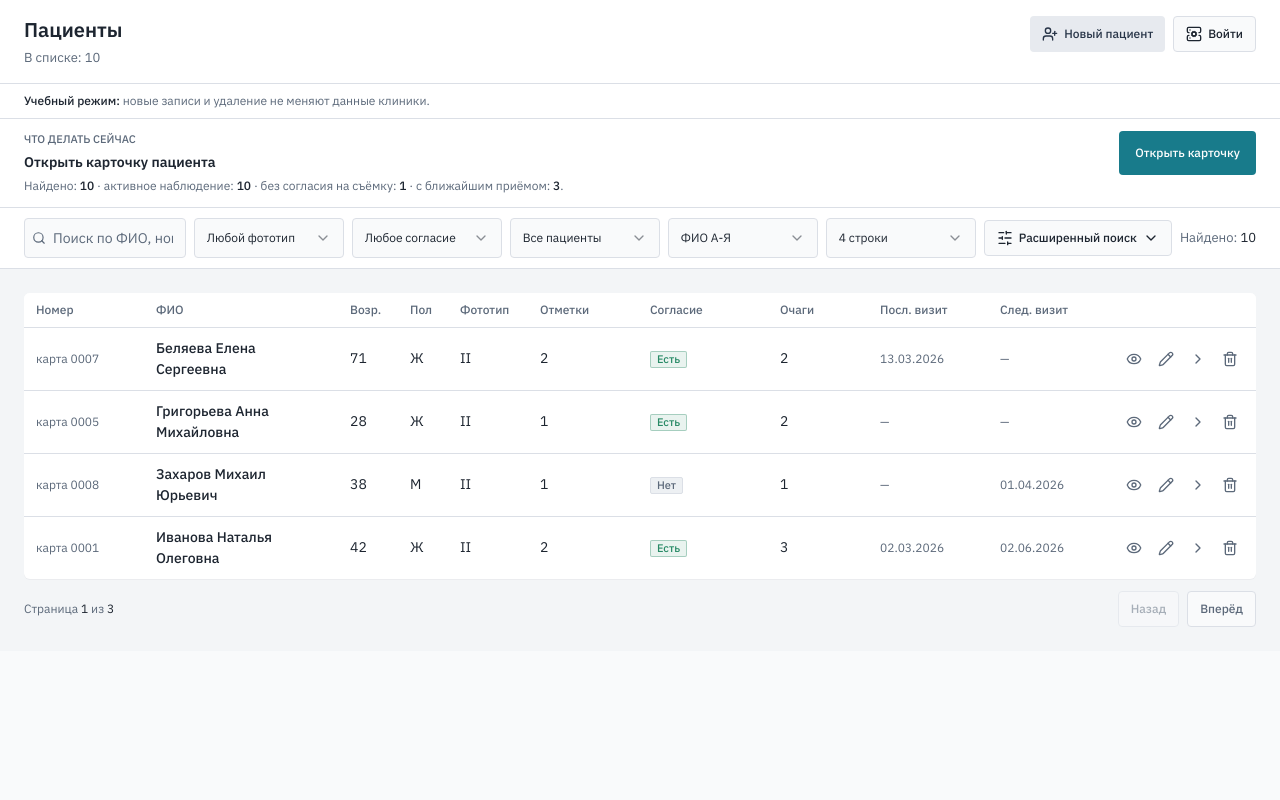
Test case: PatientsPage › records edit actions in the patient change log
Step 1. Click the button named "Редактировать пациента Иванова Наталья Олеговна" → click(1166, 548), box 1152,534 -> 1180,562
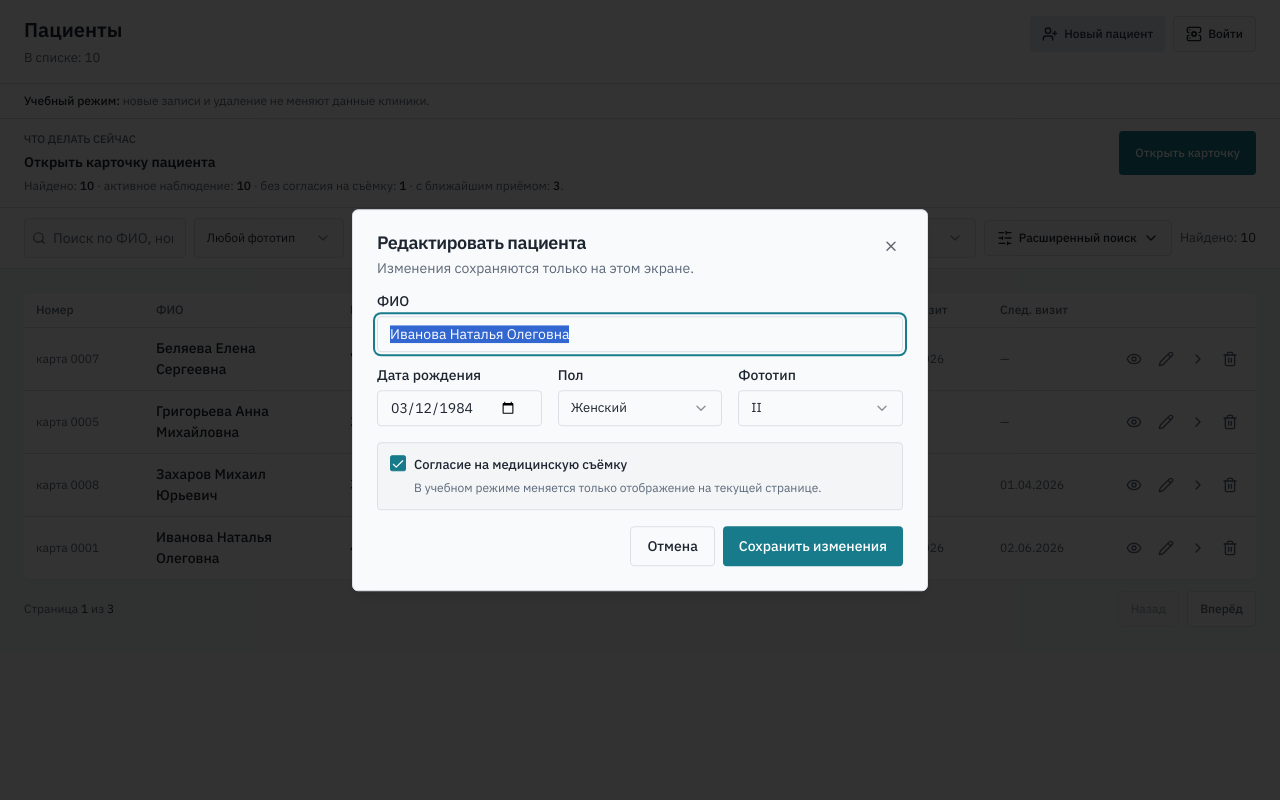
Step 2. Replace the text in the field labelled "ФИО" with "Иванова Наталья Журнал" → (640, 334), box 377,316 -> 903,352
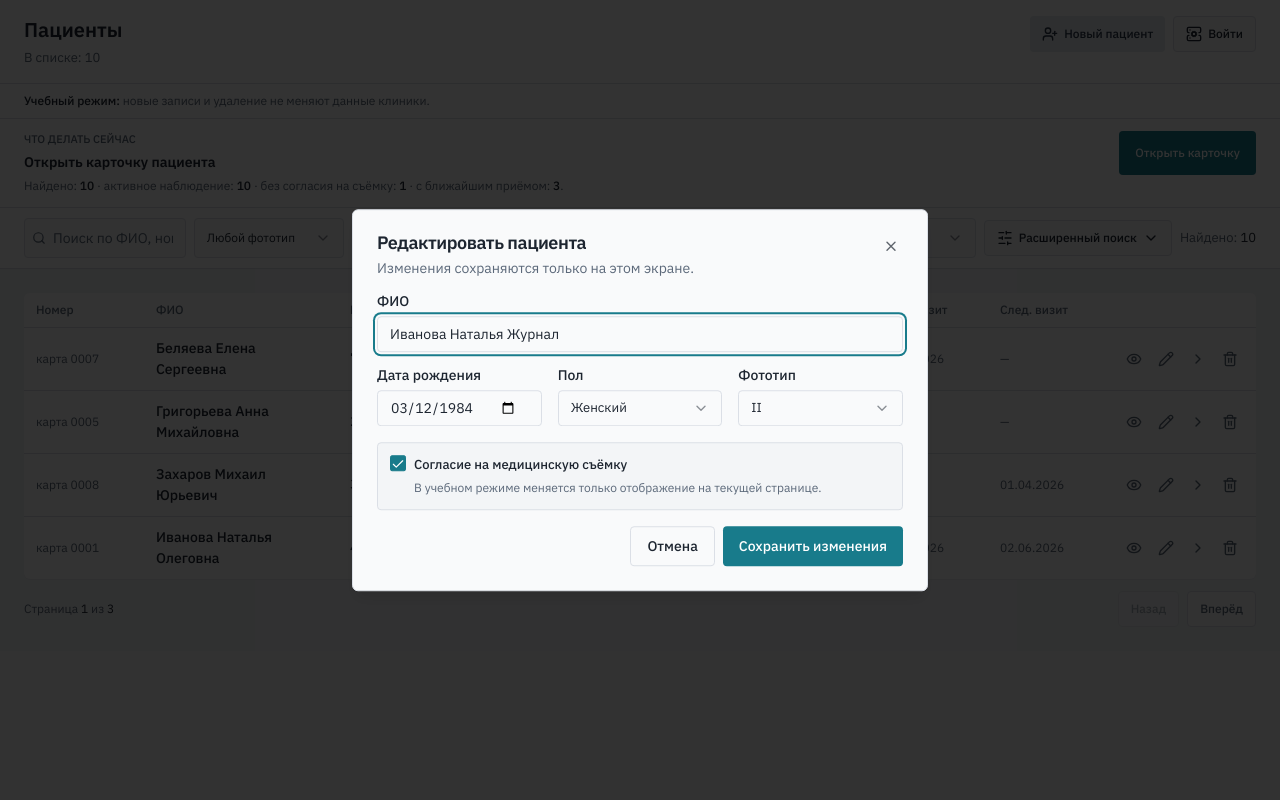
Step 3. Click the button "Сохранить изменения" → click(813, 546), box 723,526 -> 903,566
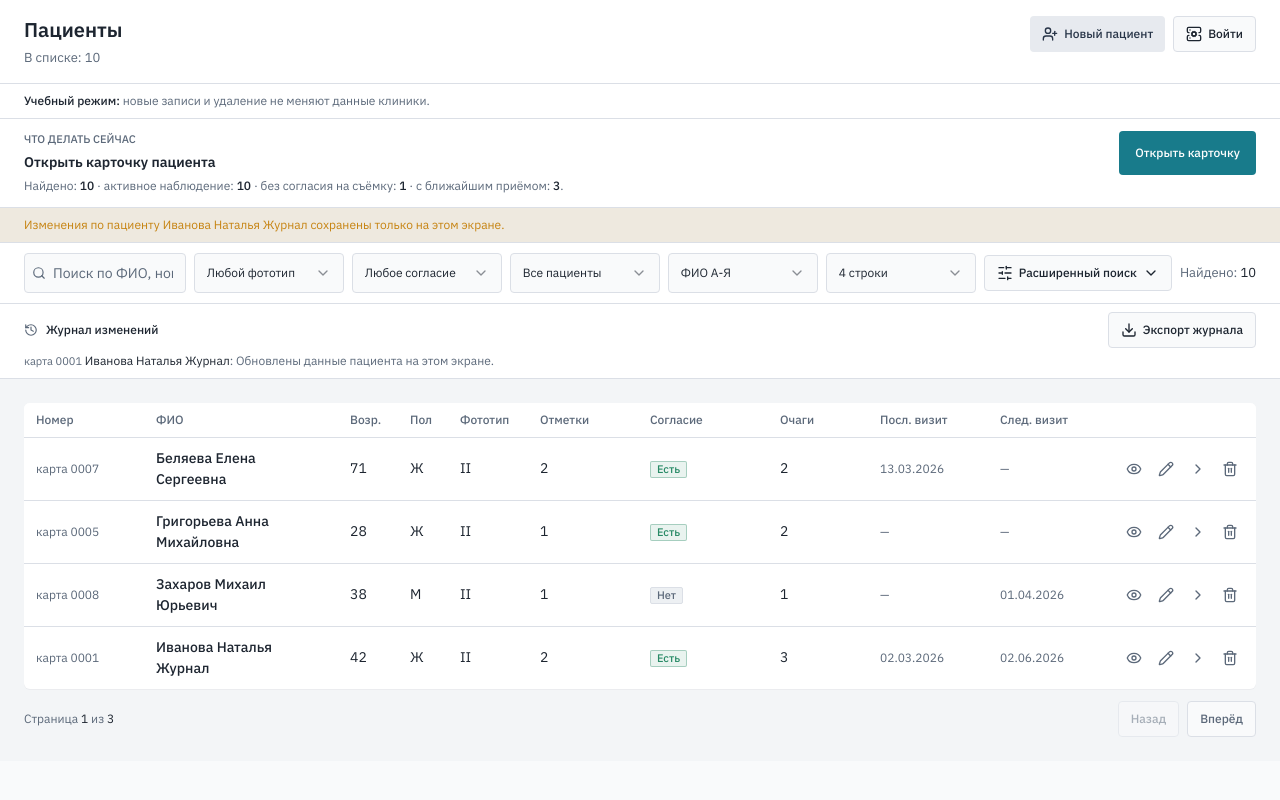
Expected: the element named "Журнал изменений пациентов" shows "карта 0001", 24,354 -> 82,368
Expected: the element named "Журнал изменений пациентов" shows "Иванова Наталья Журнал", 85,352 -> 230,368
Expected: the element named "Журнал изменений пациентов" shows "Обновлены данные пациента на этом экране.", 236,352 -> 494,368
